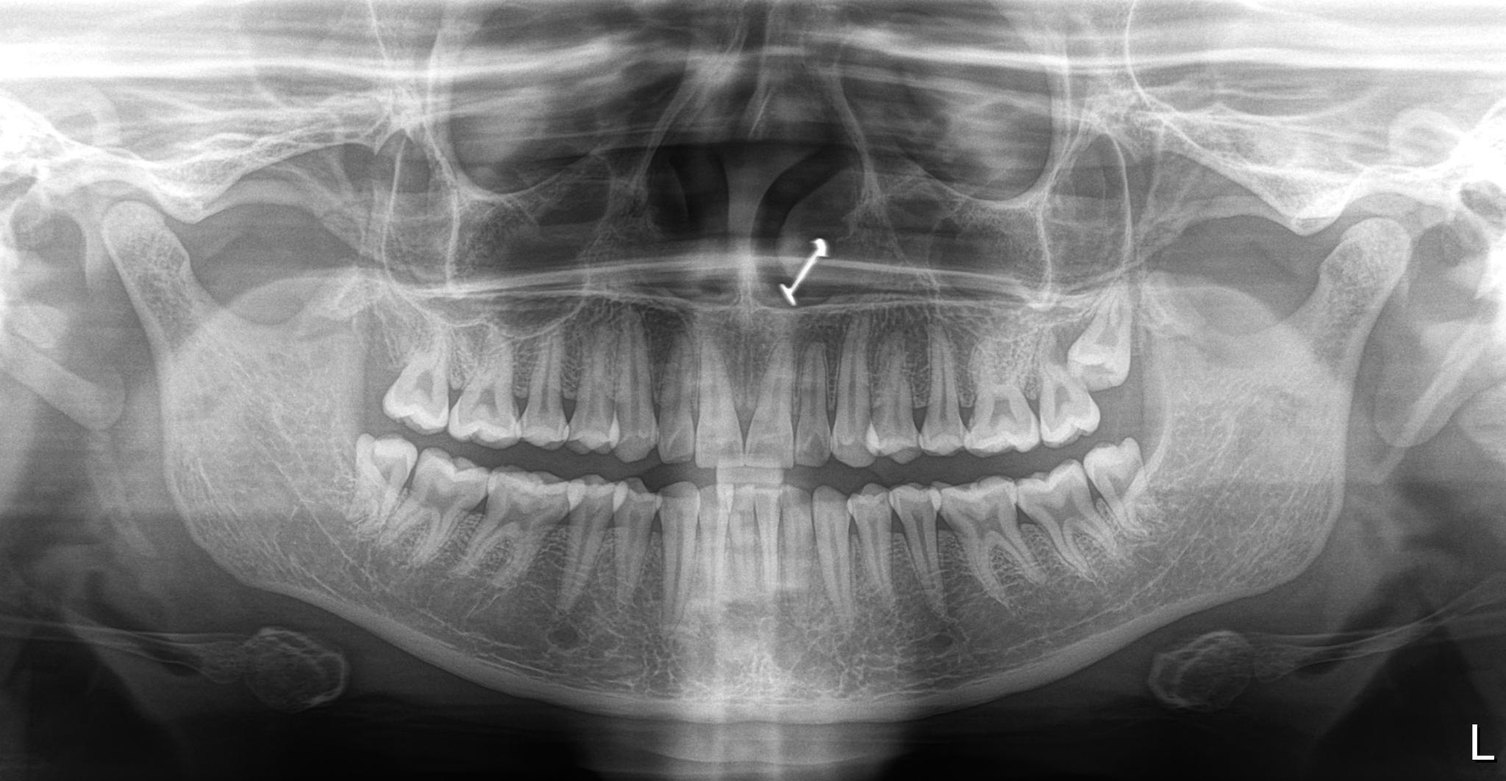Impacted Third Molar: (1085, 439, 1171, 558), (1068, 294, 1145, 391), (351, 426, 414, 536)
